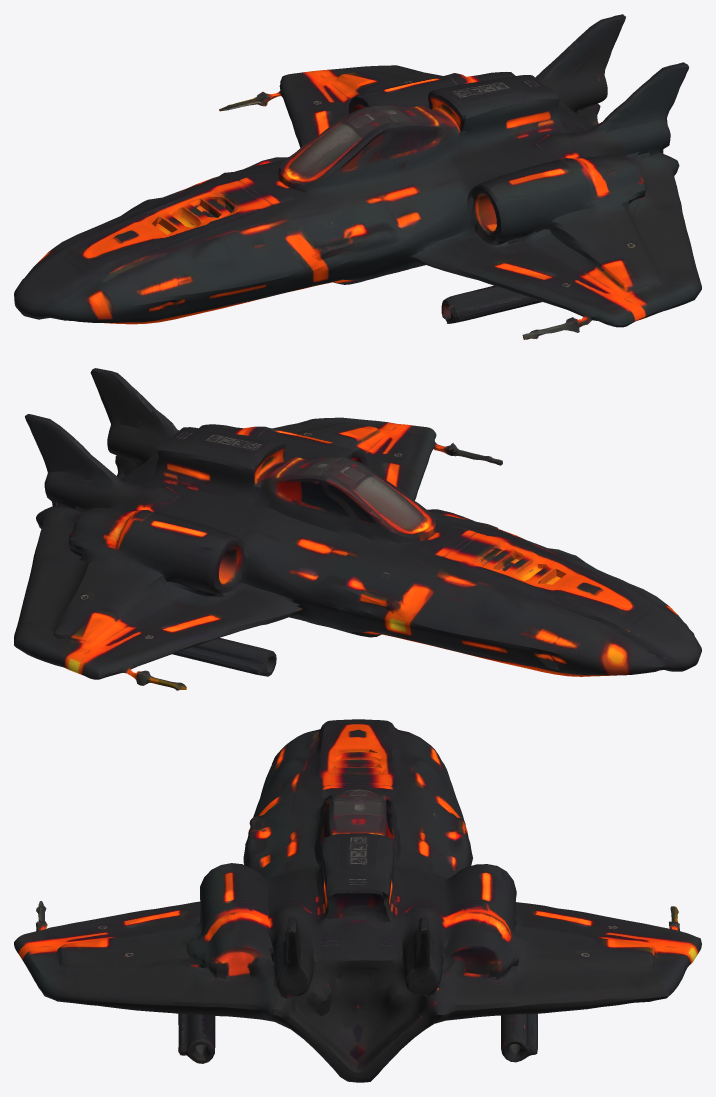
The model's file is ship20.glb.
3 renders of one model, top to bottom at view 1: azimuth 30°, elevation 25°; view 2: azimuth 150°, elevation 25°; view 3: azimuth 270°, elevation 25°, orthographic. The views are drawn at different scales.
Parts seen in each view (by area): view 1: Mesh0; view 2: Mesh0; view 3: Mesh0.
Part boxes in pixels (left/top/right/bottom): Mesh0: left=14, top=14, right=701, bottom=339; Mesh0: left=14, top=368, right=701, bottom=690; Mesh0: left=14, top=719, right=701, bottom=1082.
Bounding box in the file's own units: 1.91 × 0.4717 × 1.74.
1 material, 1 textured.
